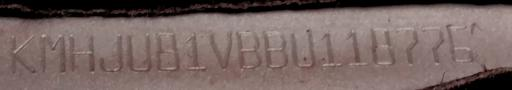letter: (66, 31, 98, 73), (288, 26, 318, 70), (444, 22, 474, 64), (368, 25, 398, 67), (153, 28, 181, 73), (123, 31, 153, 73), (38, 31, 68, 73), (235, 27, 263, 71), (207, 29, 235, 73), (8, 30, 36, 74), (419, 24, 447, 66), (394, 24, 422, 66), (342, 26, 370, 68), (262, 27, 290, 69), (180, 29, 208, 71), (97, 31, 123, 72), (316, 28, 342, 68)
